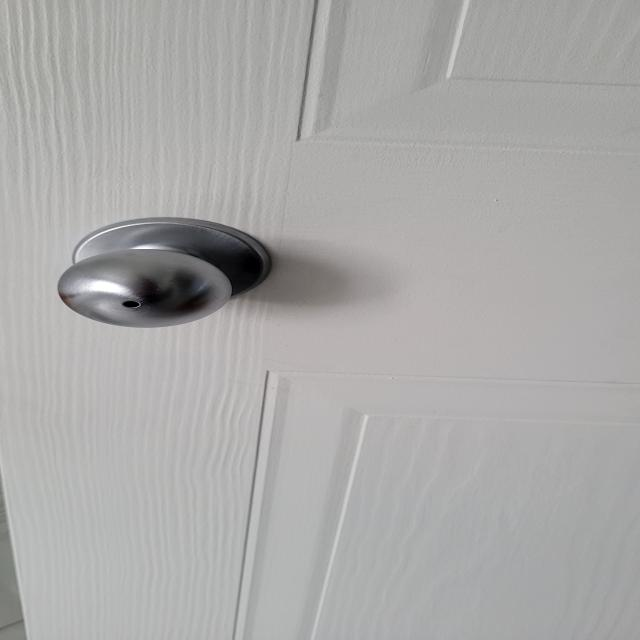door-knob: (57, 218, 271, 328)
